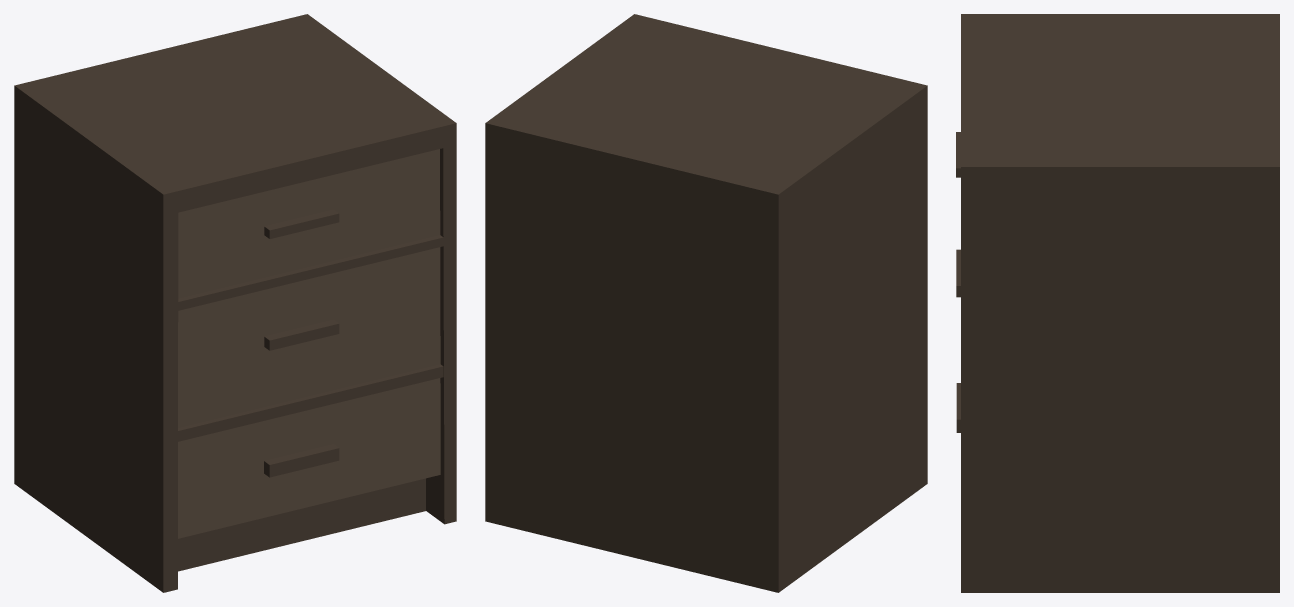
Rendered from AP_nightstand02_TL.fbx.
3 renders of one model, left to right at view 1: azimuth 30°, elevation 25°; view 2: azimuth 150°, elevation 25°; view 3: azimuth 270°, elevation 25°, orthographic. The views are drawn at different scales.
Visible parts, largest first — view 1: pCube1; view 2: pCube1; view 3: pCube1.
Part boxes in pixels (x1,y1,x2,y2): pCube1: (14,14,456,592); pCube1: (485,14,927,592); pCube1: (956,14,1279,592).
Size of the model in its own units: 11.68 by 15.17 by 10.45.
